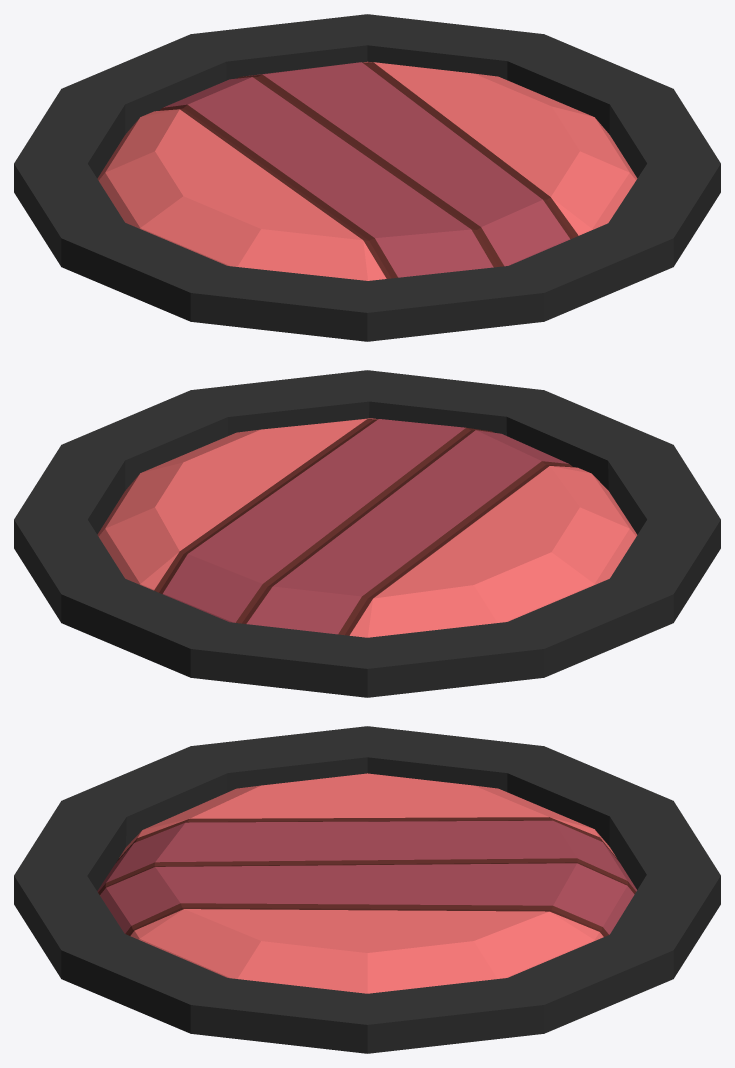
Rendered from F_Shield_C_Red.fbx.
3 renders of one model, top to bottom at view 1: azimuth 30°, elevation 25°; view 2: azimuth 150°, elevation 25°; view 3: azimuth 270°, elevation 25°, orthographic.
Visible parts, largest first — view 1: F_Shield_C_Red; view 2: F_Shield_C_Red; view 3: F_Shield_C_Red.
Boxes of the visible parts, bbox=[...] form: F_Shield_C_Red: bbox=[14, 14, 720, 341]; F_Shield_C_Red: bbox=[14, 370, 720, 697]; F_Shield_C_Red: bbox=[14, 726, 720, 1053].
Bounding box in the file's own units: 75.7 × 7.63 × 75.7.
